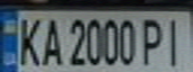0: (118, 15, 142, 67), (84, 15, 106, 67), (103, 15, 121, 66)
2: (63, 14, 87, 68)
A: (36, 14, 66, 66)
I: (160, 13, 193, 69)
K: (12, 14, 45, 68)
P: (139, 15, 169, 67)
